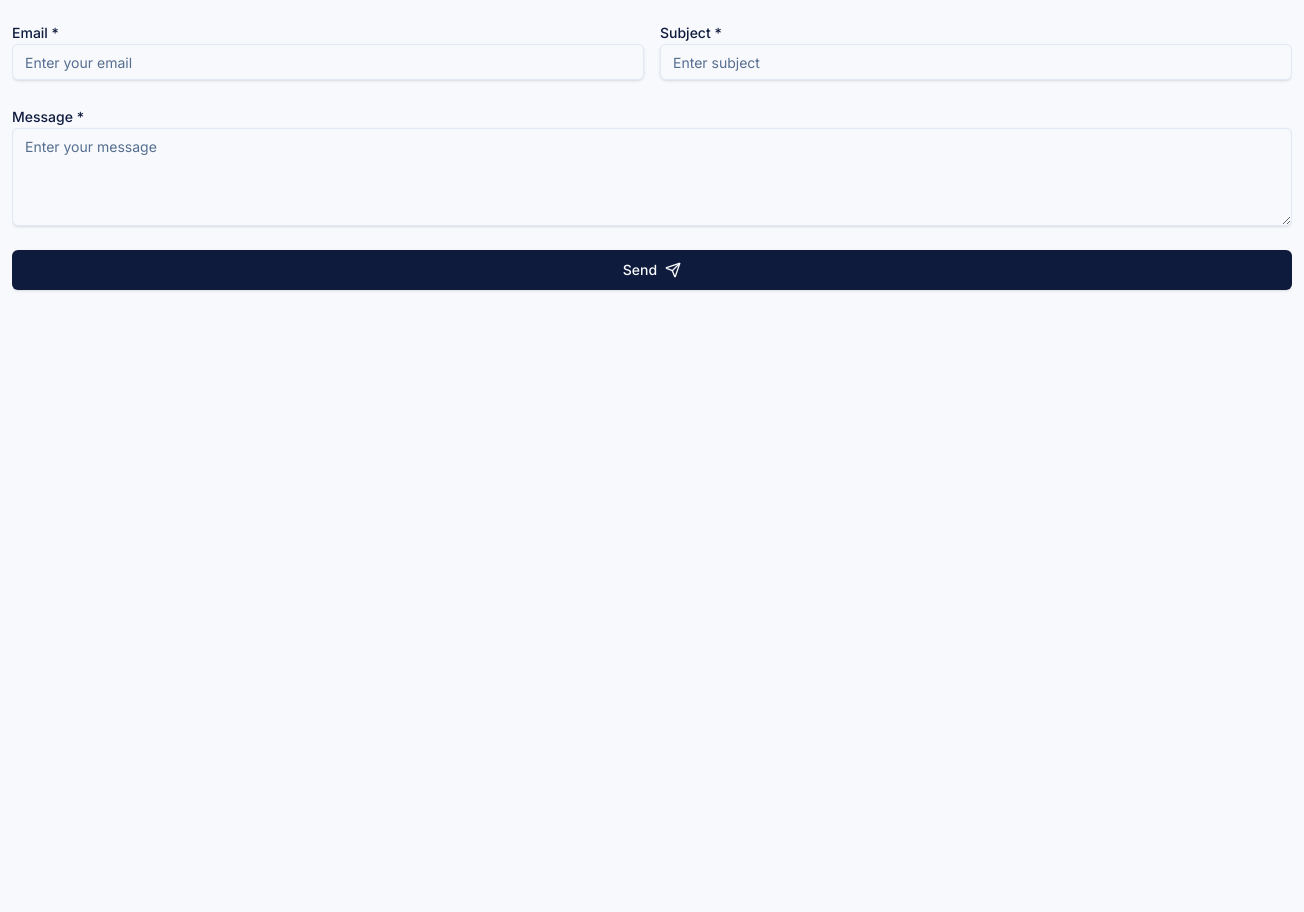
Test case: ContactForm.tsx - ContactForm Component › Error Display Tests › TC21: Should hide error message on success
The image size is (1304, 912).
In the field with placeholder "Enter your email": (328, 62) 12,44 -> 644,80, type "test@example.com"
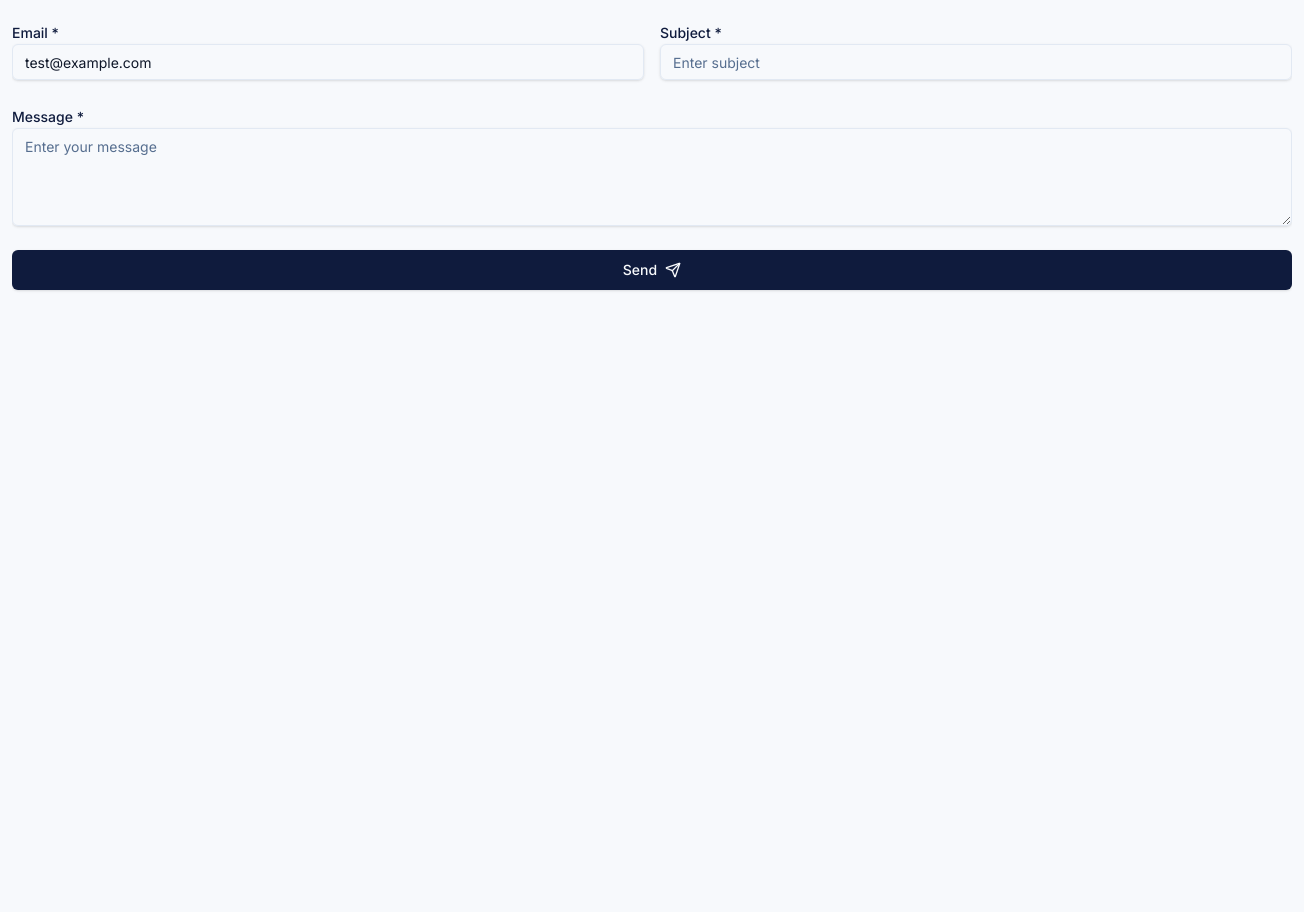
Submit the form, box 12,20 -> 1292,290
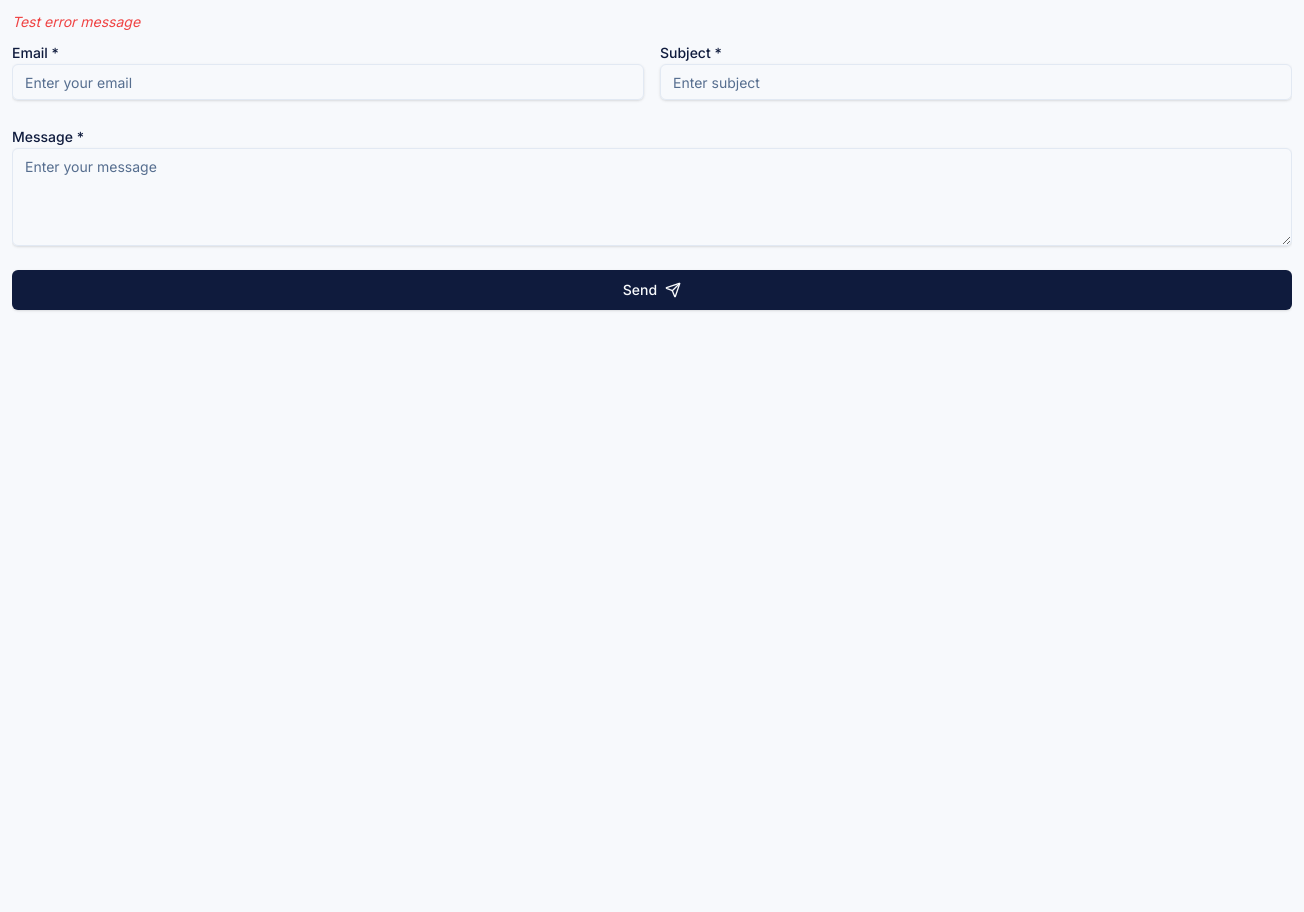
Now the text "Test error message" is shown, box 12,13 -> 140,30
In the text box with placeholder "Enter your message": (652, 197) 12,148 -> 1292,246, type "Valid message"
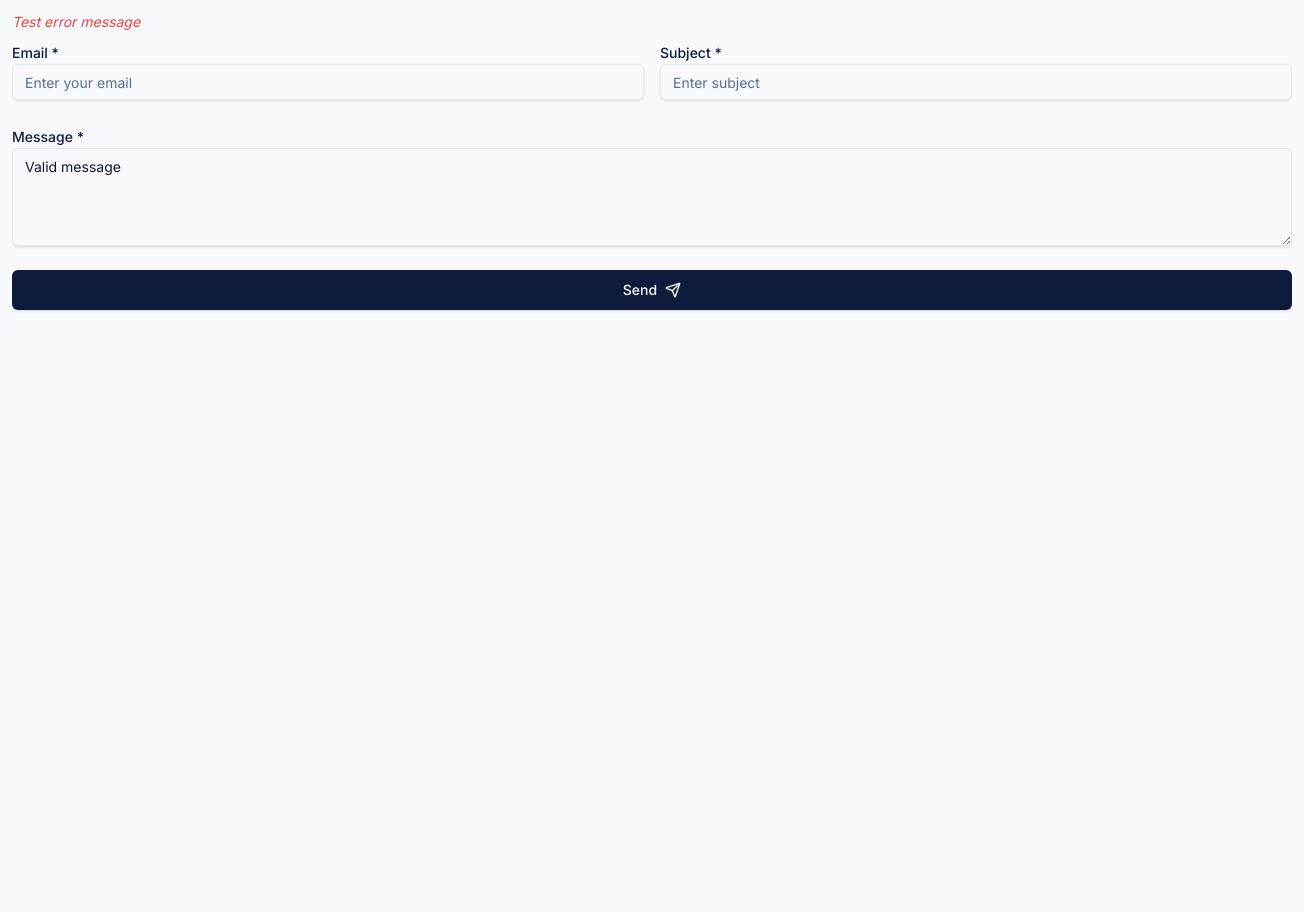
Submit the form, box 12,40 -> 1292,310
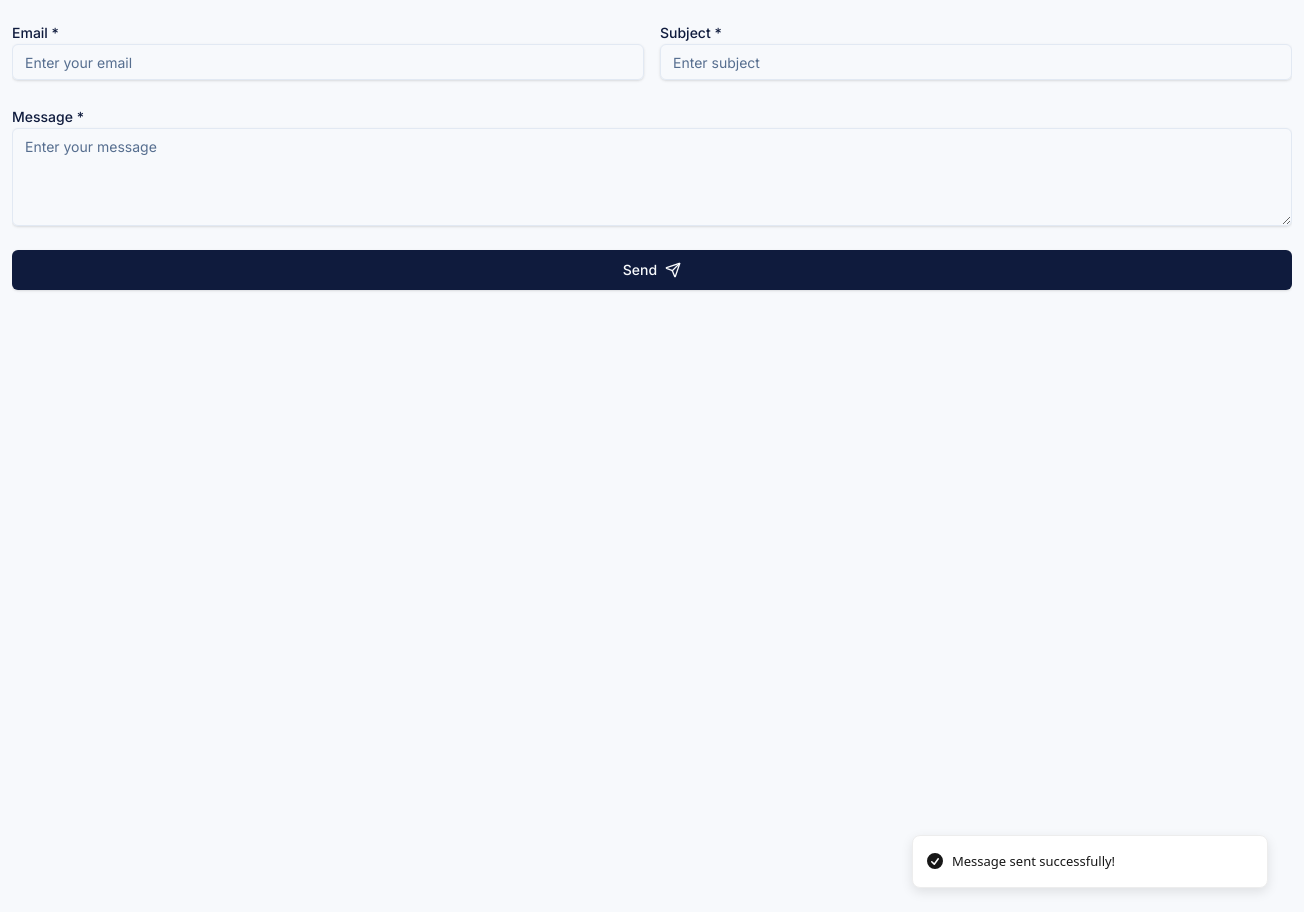
Now the text "Test error message" is gone
Now the text "Message sent successfully!" is shown, box 952,852 -> 1115,871
